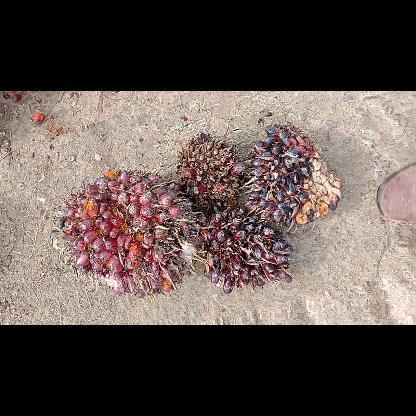TBS abnormal: (248, 123, 340, 225), (198, 207, 292, 294), (175, 132, 243, 209)
TBS masak: (48, 168, 200, 298)
